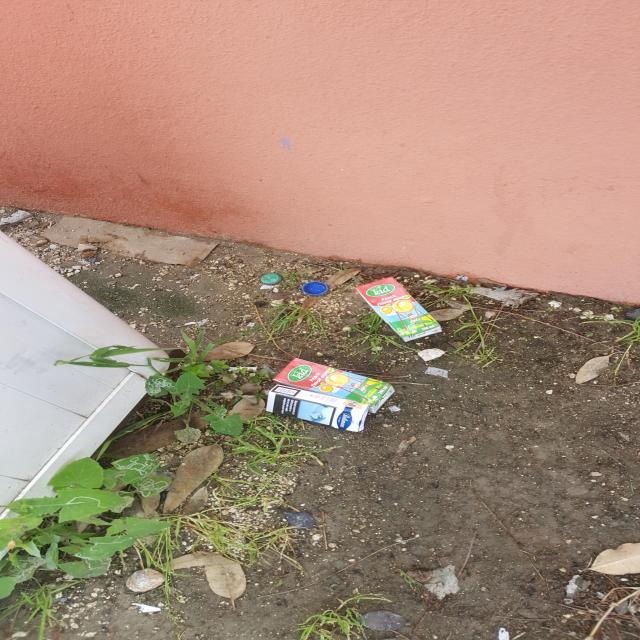litter: (273, 340, 392, 431), (342, 277, 442, 344)
